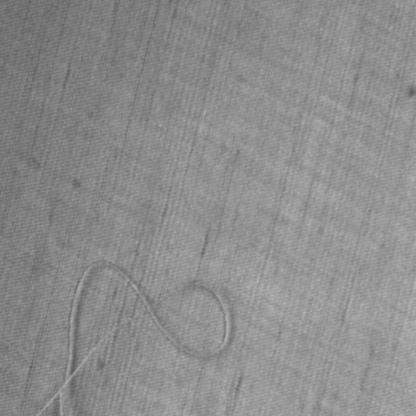objects: (33, 255, 236, 415)
